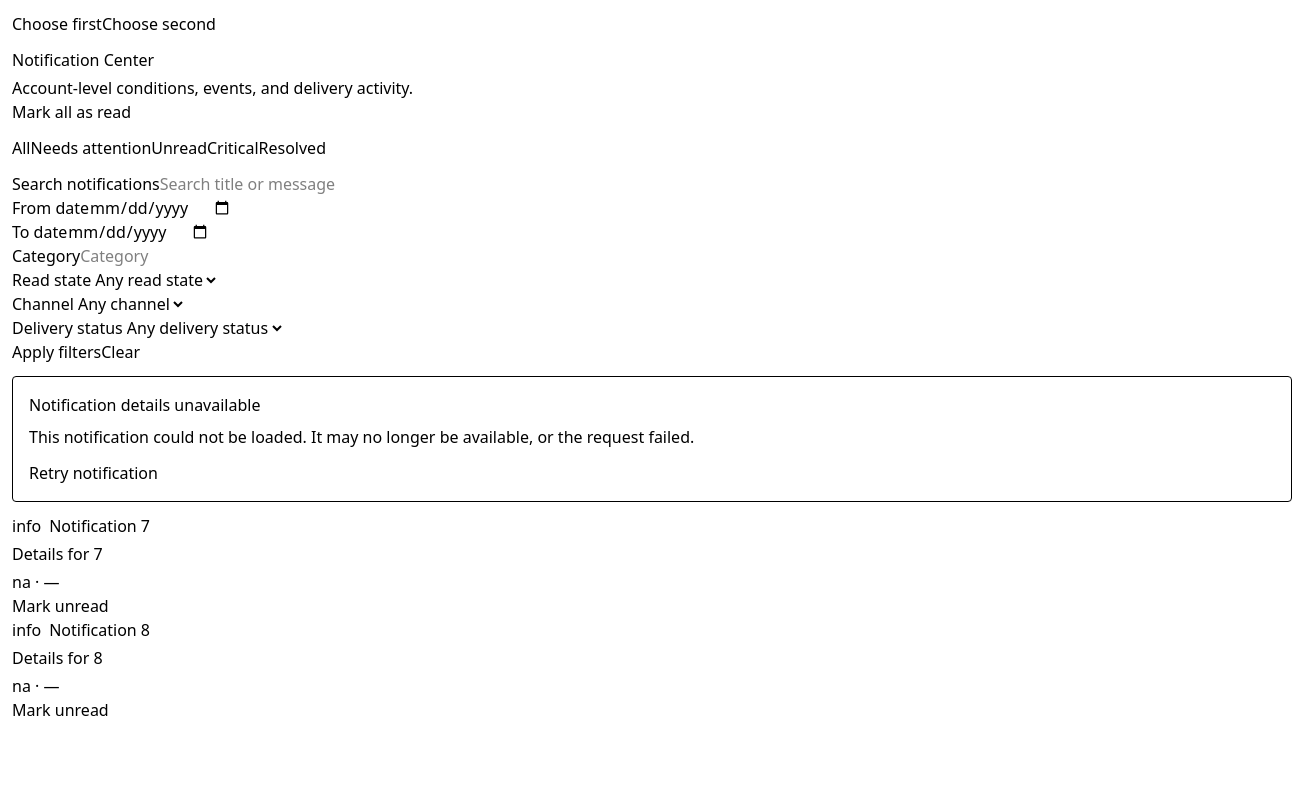
it: notification detail request recovery and ownership (#39) › shows a detail-specific failure and retries the selected notification
This screenshot has width=1292, height=812.
Expected: the heading "Notification details unavailable" is shown, [29, 394, 260, 416]
Click the button "Retry notification" at [93, 473], box [29, 461, 158, 485]
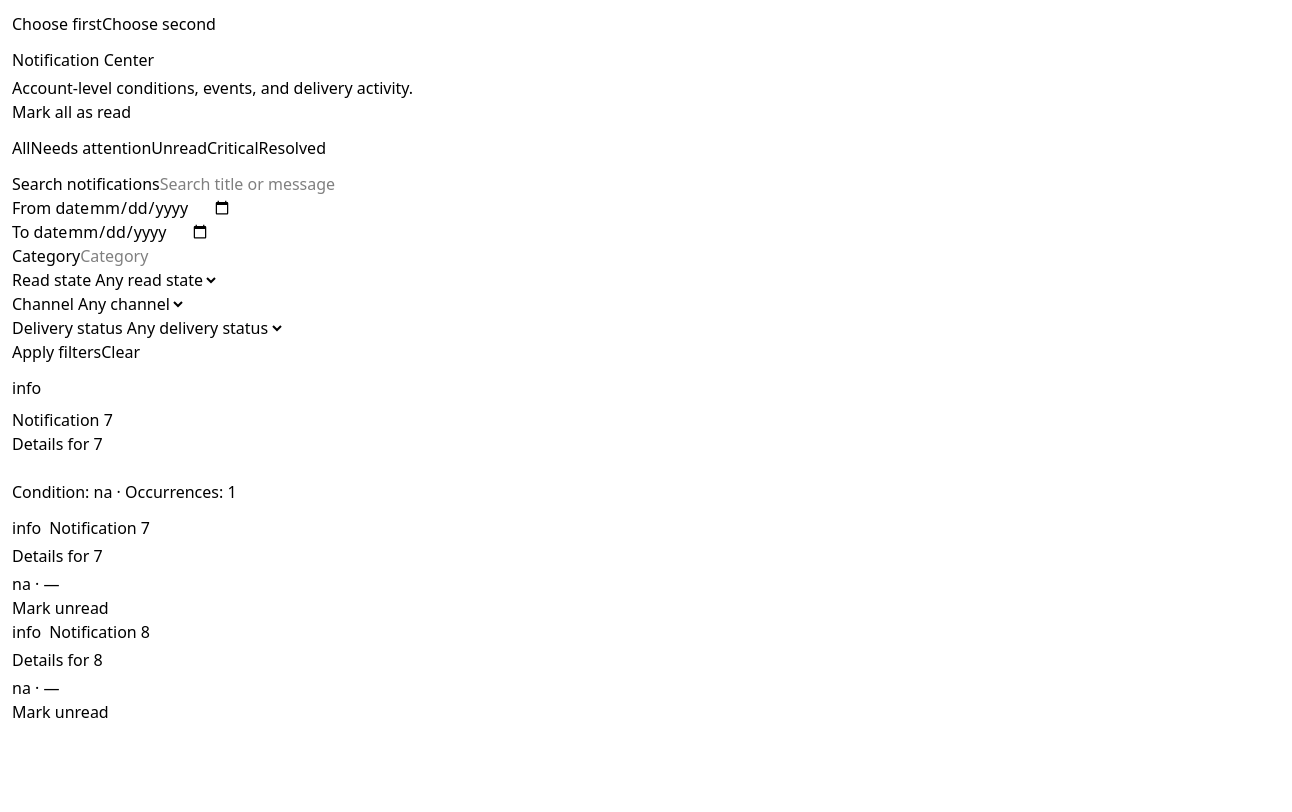
Now the 1st text "Details for 7" is shown, box [12, 433, 103, 455]
Now the heading "Notification details unavailable" is gone
